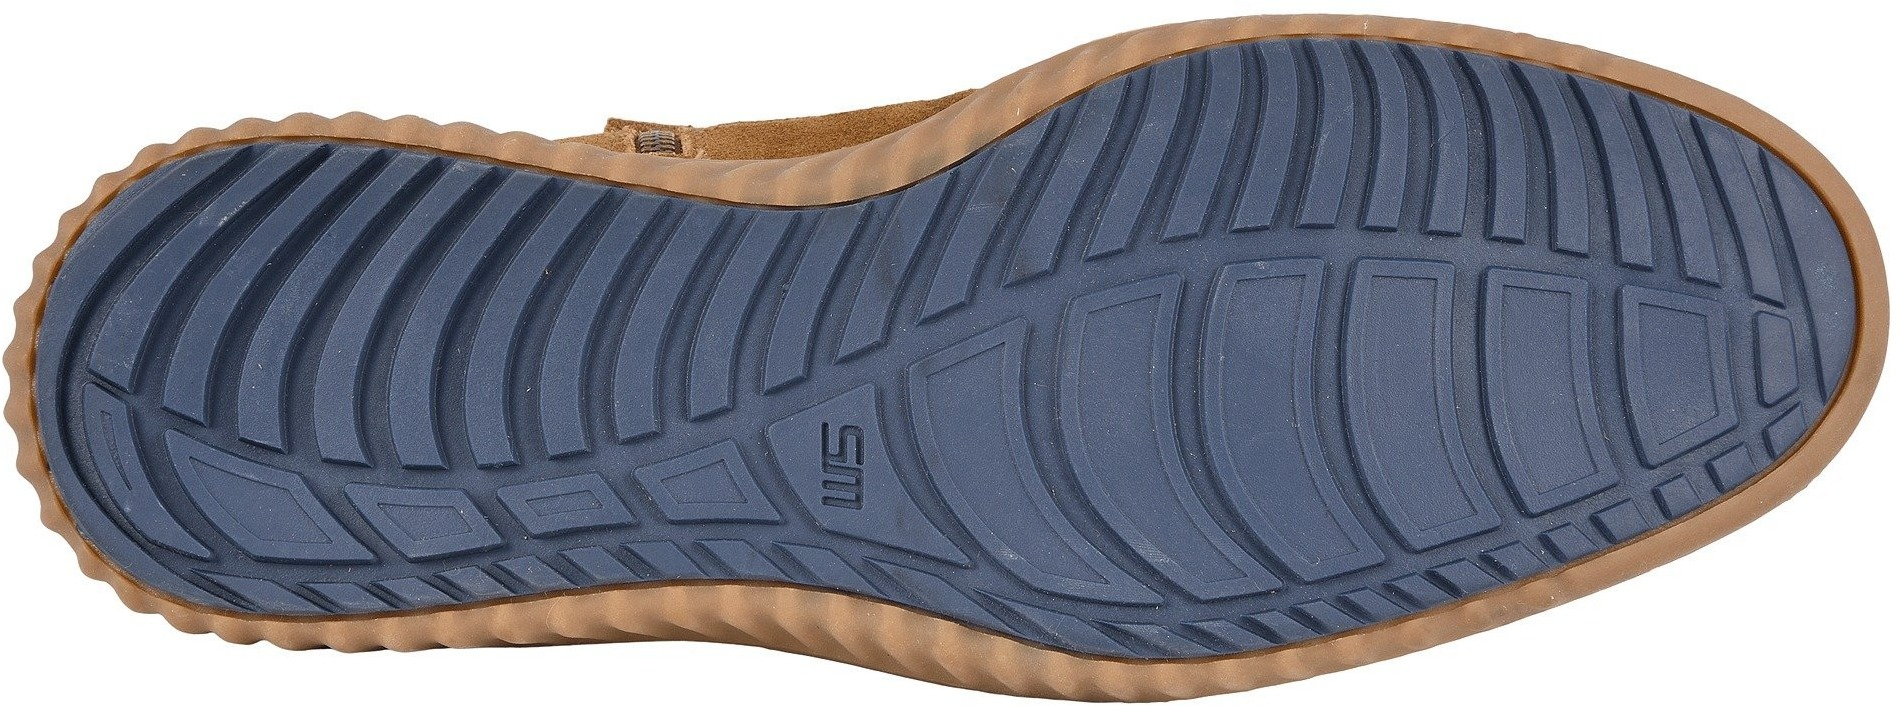line: (1046, 137, 1509, 601), (610, 183, 1069, 575), (196, 193, 642, 568)
quad: (1046, 137, 1509, 601), (610, 183, 1069, 575), (196, 193, 642, 568), (648, 191, 890, 427), (1522, 71, 1726, 302)
ribbon: (1270, 180, 1419, 305)
text: (796, 418, 892, 520), (806, 411, 882, 521)
